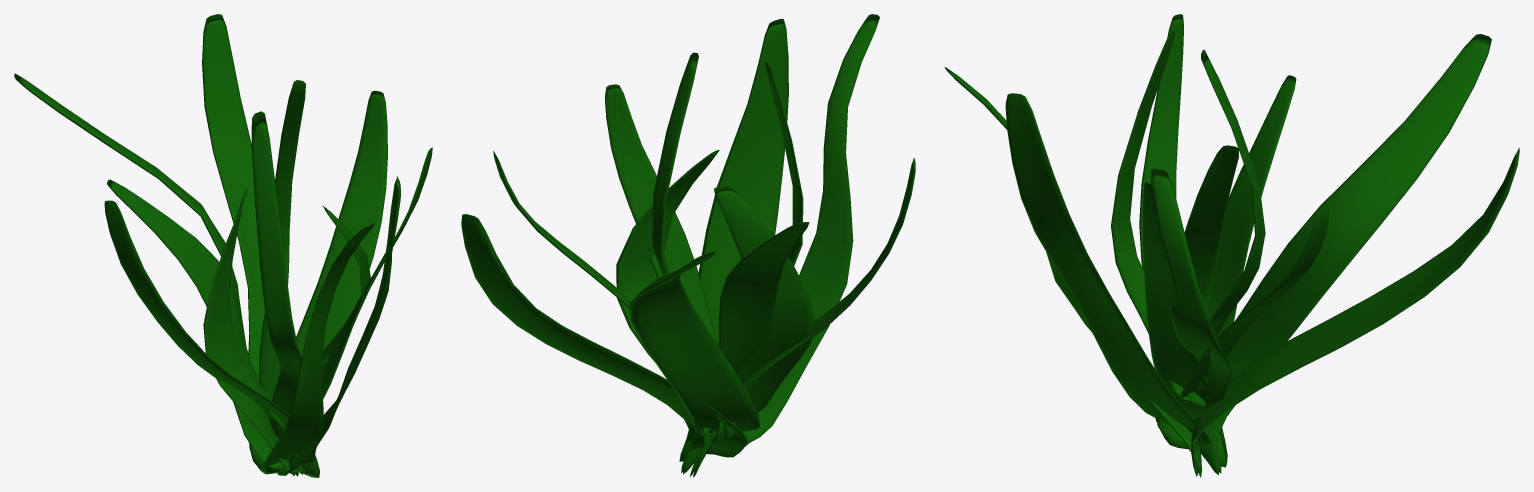
The model's file is Grass.fbx.
3 renders of one model, left to right at view 1: azimuth 30°, elevation 25°; view 2: azimuth 150°, elevation 25°; view 3: azimuth 270°, elevation 25°, orthographic. The views are drawn at different scales.
Parts seen in each view (by area): view 1: Cube.004; view 2: Cube.004; view 3: Cube.004.
Part boxes in pixels (x1,y1,x2,y2): Cube.004: [14, 14, 432, 477]; Cube.004: [461, 14, 915, 477]; Cube.004: [944, 14, 1519, 477].
Size of the model in its own units: 113 by 126 by 156.
